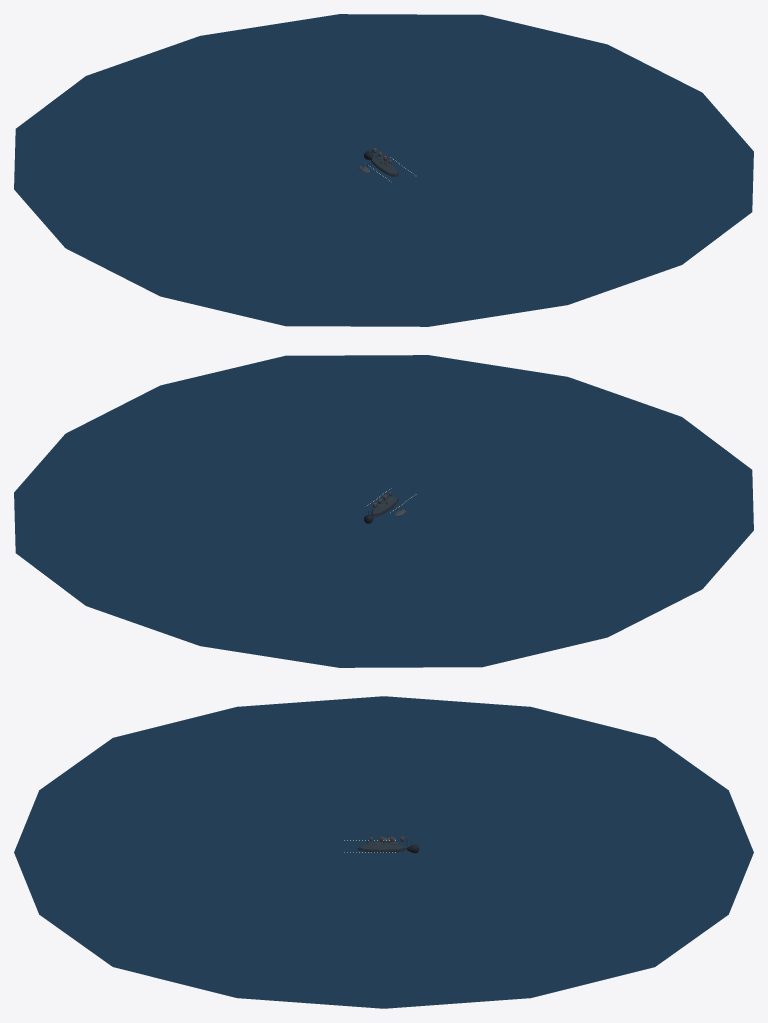
The model's file is titanic_stage.glb.
3 views of the same model, one above another, from view 1: azimuth 30°, elevation 25°; view 2: azimuth 150°, elevation 25°; view 3: azimuth 270°, elevation 25° (orthographic).
Parts seen in each view (by area): view 1: Plane; view 2: Plane; view 3: Plane.
Boxes of the visible parts, left/top/right/bottom form: Plane: left=14, top=14, right=753, bottom=326; Plane: left=14, top=355, right=753, bottom=667; Plane: left=14, top=696, right=753, bottom=1008.
Bounding box in the file's own units: 642 × 89.48 × 642.
